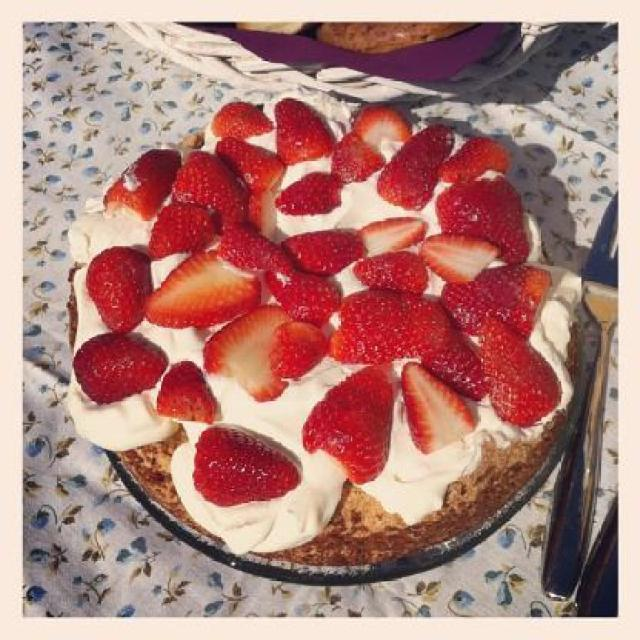Strawberry: (73, 97, 561, 506)
